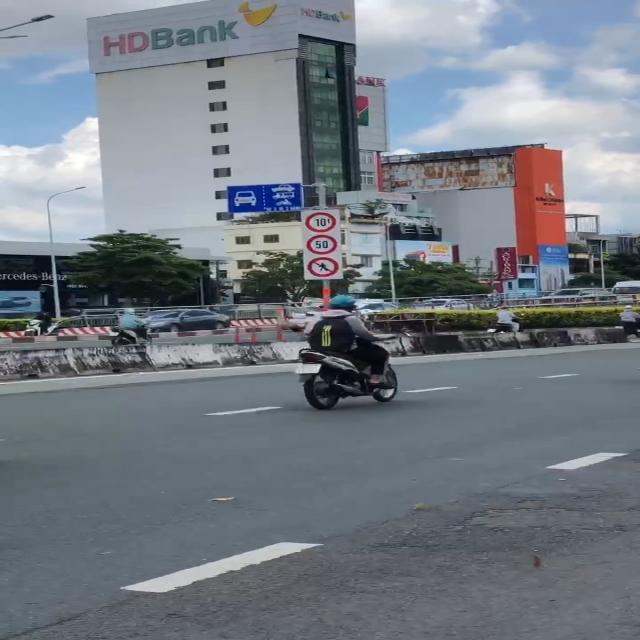Bien bao cam nguoi di bo: (305, 256, 341, 280)
Bien bao toc do toi da cho phep: (304, 234, 341, 256)
